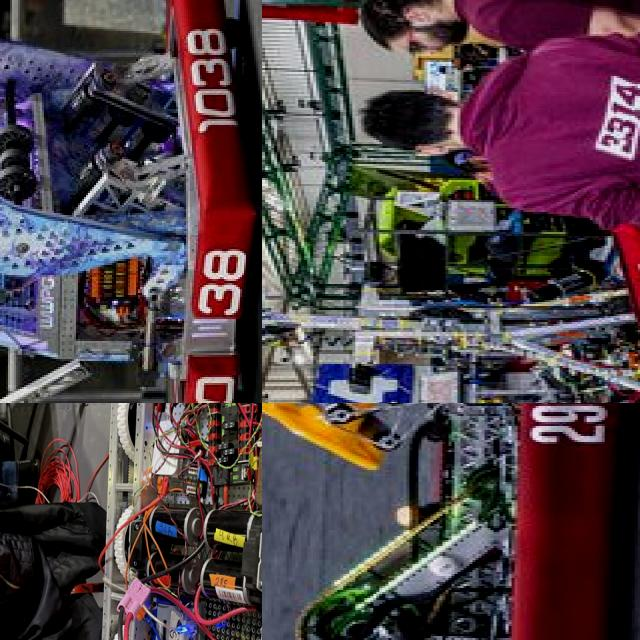FRC-Robots: (0, 0, 262, 403), (262, 403, 640, 640), (262, 211, 640, 403), (14, 403, 262, 640)
